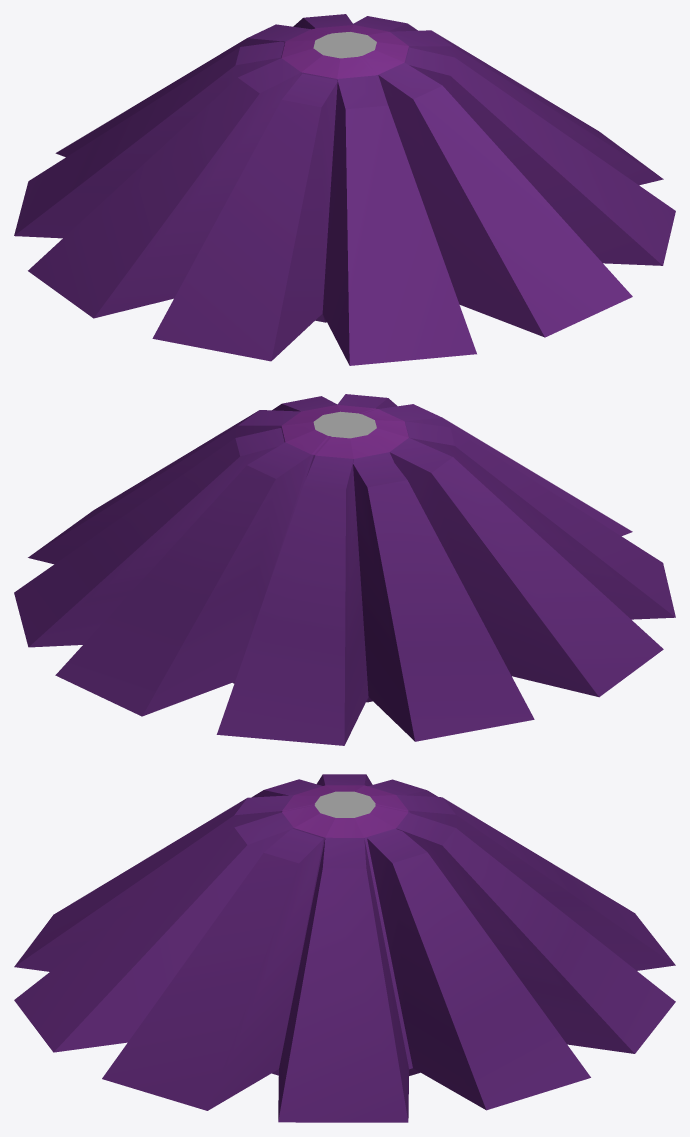
Rendered from obj_gear01_easy.gltf.
3 views of the same model, one above another, from view 1: azimuth 30°, elevation 25°; view 2: azimuth 150°, elevation 25°; view 3: azimuth 270°, elevation 25° (orthographic).
Parts seen in each view (by area): view 1: obj_gear01_easy; view 2: obj_gear01_easy; view 3: obj_gear01_easy.
Part boxes in pixels (<box>): obj_gear01_easy: <box>14,14,675,365</box>; obj_gear01_easy: <box>14,394,675,745</box>; obj_gear01_easy: <box>14,774,675,1122</box>.
Size of what is drawn, in the model's own units: 0.3273 by 0.1093 by 0.3291.
1 material, 1 textured.
